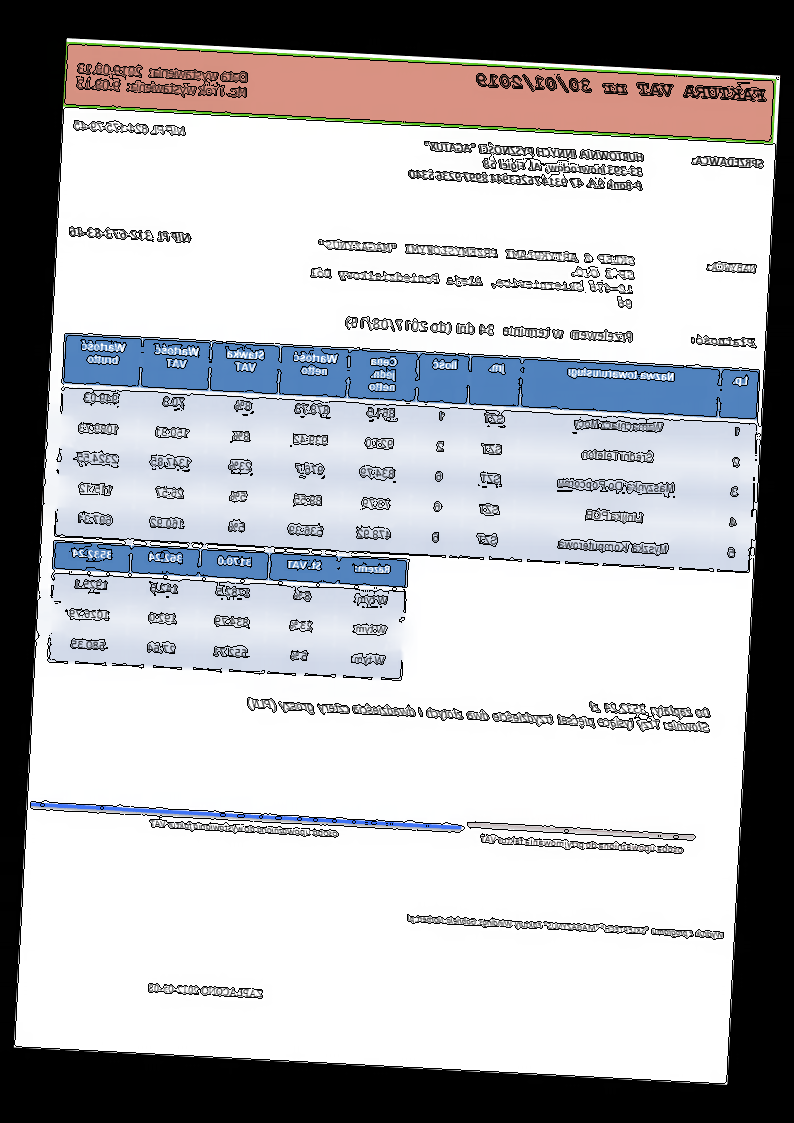Table: (53, 332, 761, 574), (47, 539, 409, 680), (246, 680, 713, 737)
TextBox: (306, 236, 639, 311), (407, 138, 647, 194), (475, 69, 769, 106), (405, 911, 727, 942), (344, 314, 635, 345), (75, 59, 252, 100), (479, 833, 687, 856), (148, 817, 341, 840), (67, 224, 194, 246), (72, 118, 188, 139), (147, 981, 265, 999), (691, 153, 766, 171), (689, 331, 757, 350), (704, 259, 760, 275)
